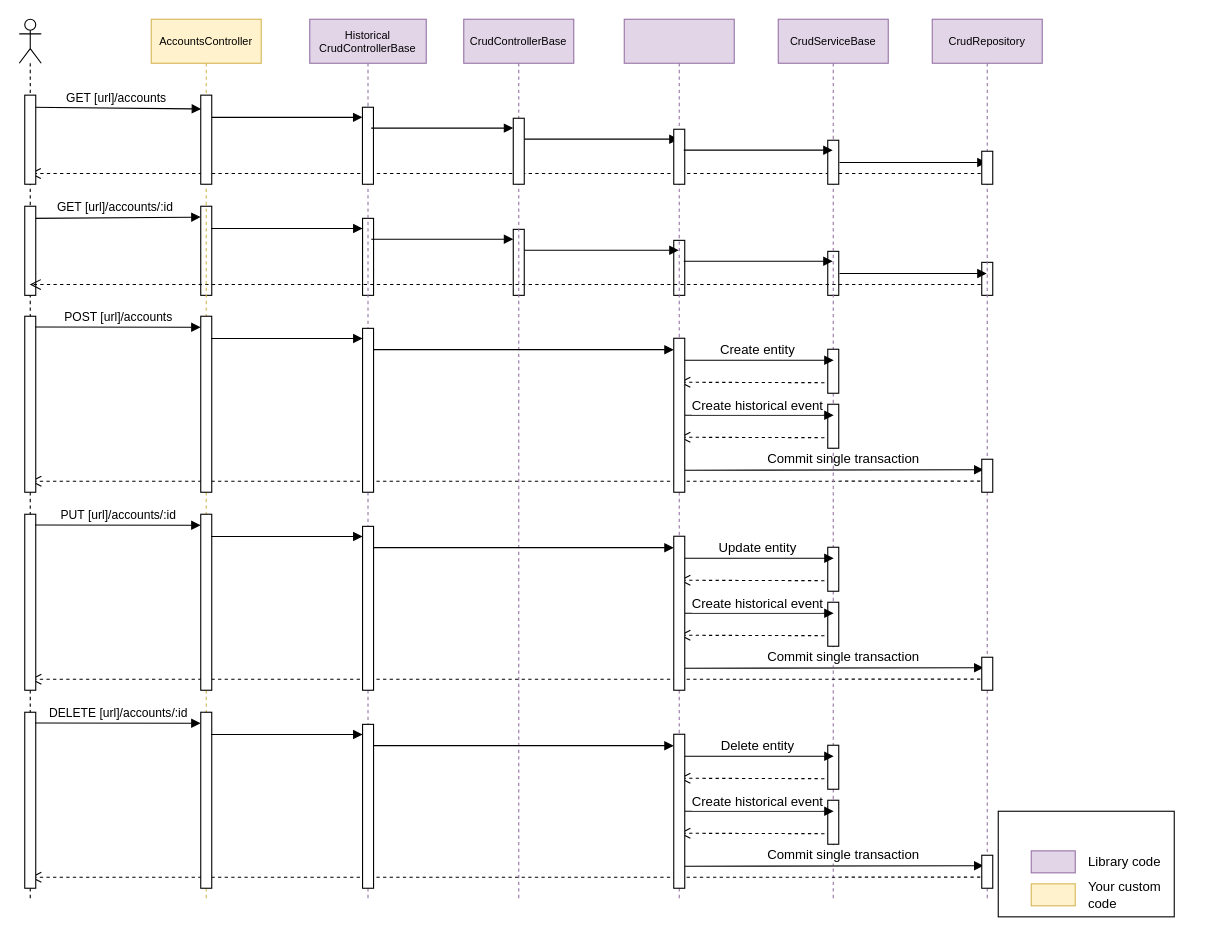
The diagram is 1216 pixels wide and 936 high, and some of its shapes have lost their labels. Each missing label, with the box of its shape:
Historical CrudServiceBase: (623, 18, 734, 899)
Legend: (997, 810, 1174, 917)
